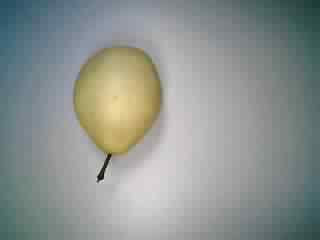pear: (58, 37, 173, 192)
